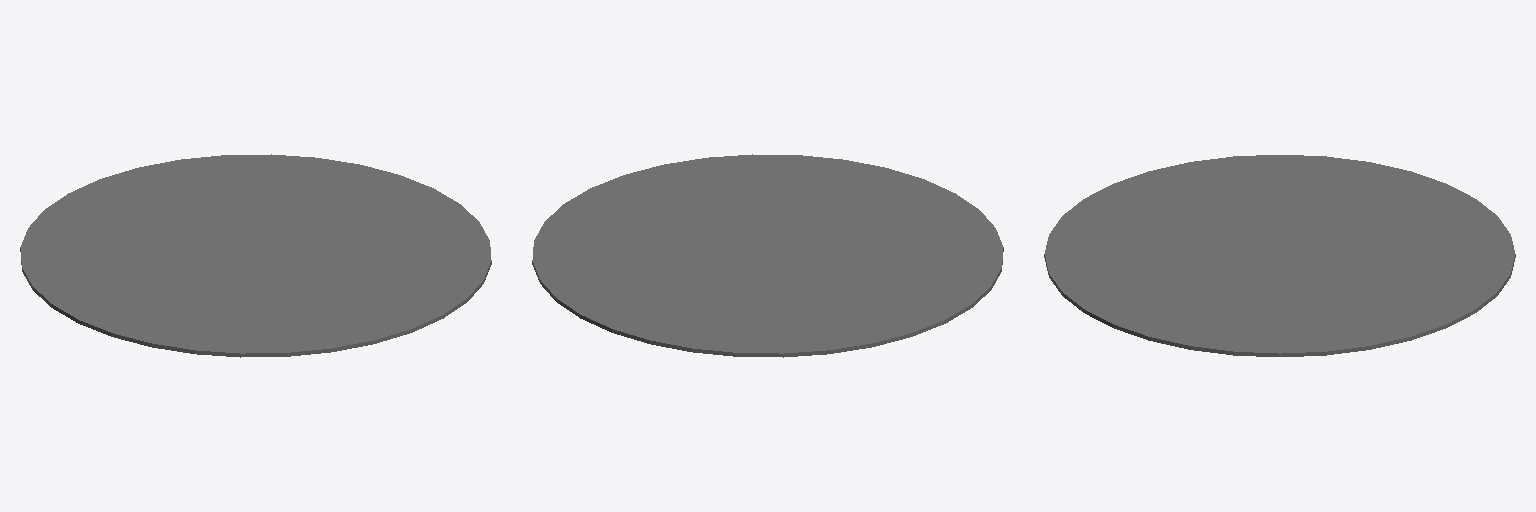
URDF robot description (urdf_robot):
<?xml version="1.0" ?>
<robot name="urdf_robot">
  <link name="base_link">
    <contact>
      <lateral_friction value="0.5"/>
      <rolling_friction value="0.5"/>
      <spinning_friction value="0.5"/>
    </contact>
    <inertial>
      <origin rpy="0 0 0" xyz="0 0 0"/>
       <mass value="0.003"/>
       <inertia ixx="2.09475e-09" ixy="0" ixz="0" iyy="2.09475e-09" iyz="0" izz="3.03749e-09"/>
    </inertial>
    <visual>
      <origin rpy="0 0 0" xyz="0 0 0"/>
      <geometry>
		<cylinder radius="0.0542" length="0.001"/>
      </geometry>
      <material name="white">
        <color rgba="0.5 0.5 0.5 1"/>
      </material>
    </visual>
    <collision>
      <origin rpy="0 0 0" xyz="0 0 0"/>
      <geometry>
		<cylinder radius="0.0542" length="0.001"/>
      </geometry>
    </collision>
  </link>
</robot>

--- Render facts (derived) ---
Views: 3 orthographic renders of the robot side by side, from view 1: azimuth 30°, elevation 25°; view 2: azimuth 150°, elevation 25°; view 3: azimuth 270°, elevation 25°.
Robot: urdf_robot — 1 links, 0 joints (none); root link base_link; default pose: every joint at zero.
Visible links, largest first — view 1: base_link; view 2: base_link; view 3: base_link.
Boxes of the visible links, x1,y1,x2,y2 form: base_link: (20,154,491,357); base_link: (532,154,1003,357); base_link: (1044,155,1515,356).
Bounding box of the posed robot: 0.1084 × 0.1084 × 0.001 m (x, y, z).
Geometry: primitives only (box / cylinder / sphere), no mesh files.